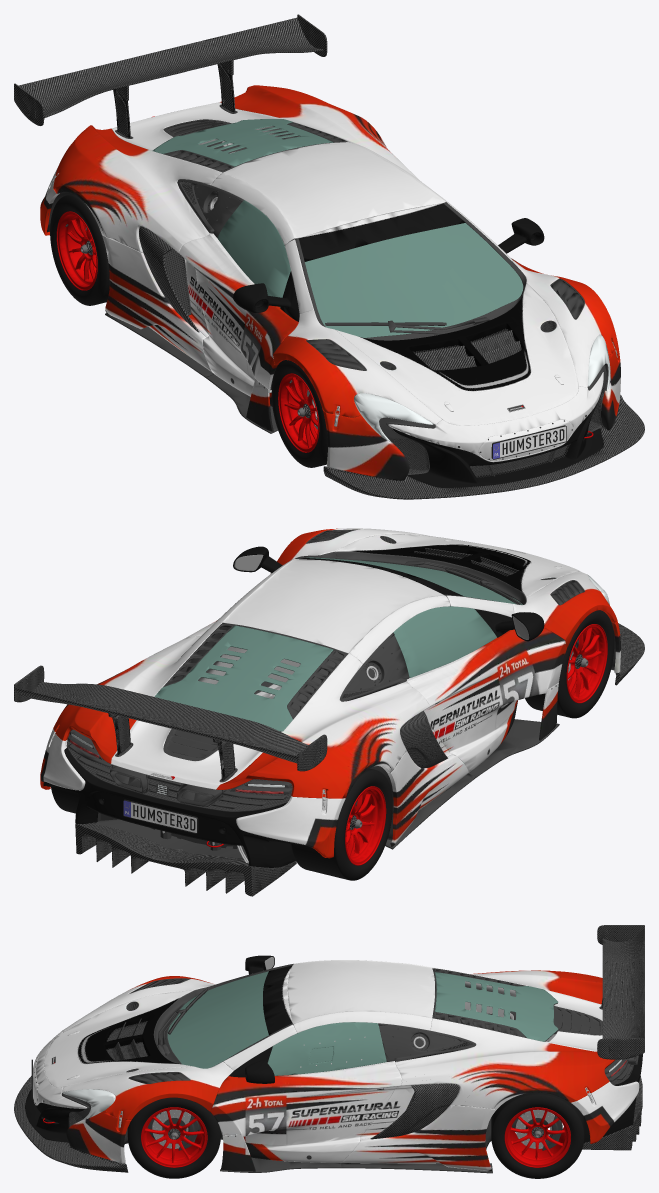
The model's file is mclaren__650s.glb.
3 views of the same model, one above another, from view 1: azimuth 30°, elevation 25°; view 2: azimuth 150°, elevation 25°; view 3: azimuth 270°, elevation 25° (orthographic). The views are drawn at different scales.
Parts seen in each view (by area): view 1: Roof.002, Wheel_Bk.R.001, Wheel_Ft.R.001; view 2: Roof.002, Wheel_Bk.R.001, Wheel_Ft.R.001; view 3: Roof.002, Wheel_Bk.L.001, Wheel_Ft.L.001.
Part boxes in pixels (x1,y1,x2,y2): Roof.002: (14, 14, 644, 499); Wheel_Bk.R.001: (50, 194, 109, 305); Wheel_Ft.R.001: (271, 360, 327, 467); Roof.002: (14, 528, 644, 896); Wheel_Bk.R.001: (291, 768, 392, 880); Wheel_Ft.R.001: (525, 610, 614, 718); Roof.002: (14, 925, 644, 1173); Wheel_Bk.L.001: (491, 1092, 584, 1178); Wheel_Ft.L.001: (127, 1097, 220, 1178).
Bounding box in the file's own units: 2.09 × 1.14 × 4.65.
18 materials, 2 textured.
